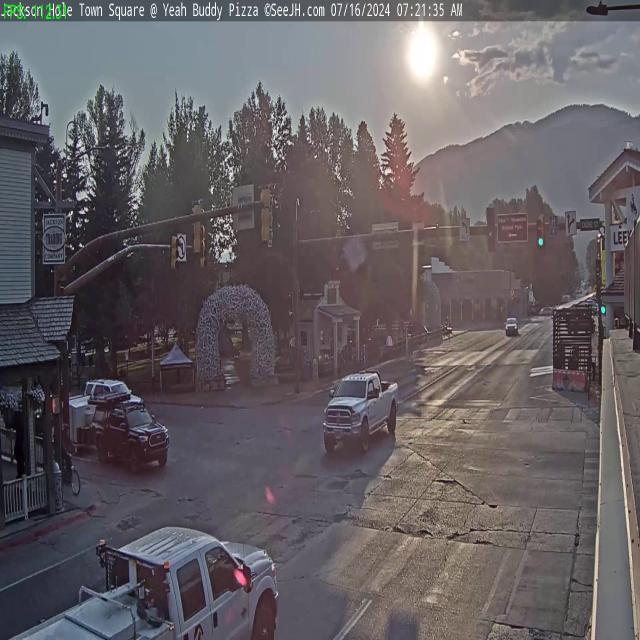bike: (55, 458, 82, 497)
person: (60, 421, 72, 466)
pickup: (10, 513, 279, 640), (324, 370, 398, 460), (92, 393, 168, 469)
sedan: (506, 315, 519, 335)
suv: (85, 375, 142, 412)
traffic light: (260, 183, 275, 248), (192, 200, 204, 252), (486, 206, 496, 252), (536, 214, 545, 249), (170, 232, 178, 271), (201, 237, 208, 270)
